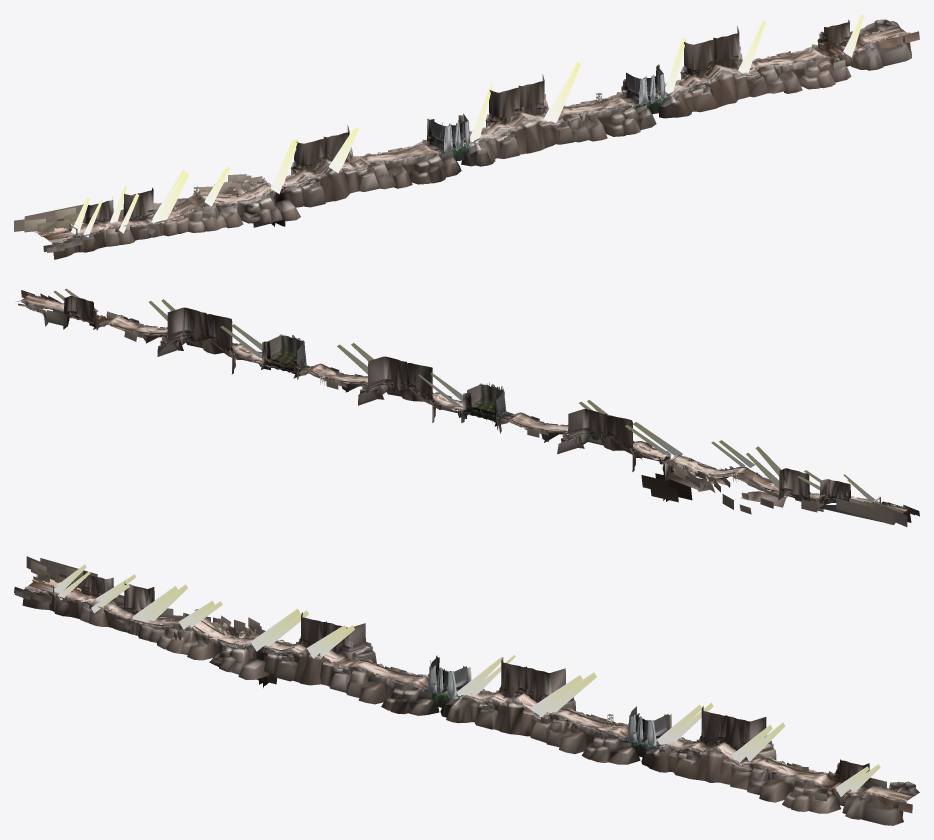
The model's file is Forest_01.fbx.
3 renders of one model, top to bottom at view 1: azimuth 30°, elevation 25°; view 2: azimuth 150°, elevation 25°; view 3: azimuth 330°, elevation 25°, orthographic. The views are drawn at different scales.
Parts seen in each view (by area): view 1: Mountain_01, Ground_03_V01, Llight_01_V01, Tree_01_A01, Tree_01_A02, Road_04, Water_01_A_V1, Mountain_02_V01, Mountain_04, Leak_A, Mountain_02; view 2: Mountain_01, Tree_01_A02, Ground_03_V01, Llight_01_V01, Mountain_03, Tree_01_A01, Road_04, Leak_A; view 3: Mountain_01, Llight_01_V01, Ground_03_V01, Tree_01_A01, Tree_01_A02, Water_01_A_V1, Road_04, Mountain_02_V01, Leak_A.
Boxes of the visible parts, box(x1,y1,x2,y2) form: Mountain_01: box(51, 19, 911, 259); Ground_03_V01: box(33, 27, 905, 241); Llight_01_V01: box(71, 14, 864, 237); Tree_01_A01: box(43, 31, 919, 252); Tree_01_A02: box(14, 28, 882, 234); Road_04: box(45, 29, 904, 239); Water_01_A_V1: box(444, 73, 665, 152); Mountain_02_V01: box(431, 72, 661, 141); Mountain_04: box(429, 90, 675, 166); Leak_A: box(155, 50, 809, 222); Mountain_02: box(432, 91, 669, 160); Mountain_01: box(16, 295, 911, 522); Tree_01_A02: box(34, 304, 907, 526); Ground_03_V01: box(22, 295, 907, 511); Llight_01_V01: box(53, 288, 880, 504); Mountain_03: box(265, 335, 502, 417); Tree_01_A01: box(21, 290, 919, 516); Road_04: box(23, 297, 904, 513); Leak_A: box(113, 323, 779, 492); Mountain_01: box(22, 571, 919, 825); Llight_01_V01: box(54, 564, 880, 796); Ground_03_V01: box(27, 574, 913, 801); Tree_01_A01: box(14, 587, 912, 813); Tree_01_A02: box(26, 556, 899, 790); Water_01_A_V1: box(427, 665, 656, 746); Road_04: box(29, 583, 910, 799); Mountain_02_V01: box(431, 666, 668, 736); Leak_A: box(134, 618, 820, 774).
Size of the model in its own units: 95540 by 8353 by 7575.
